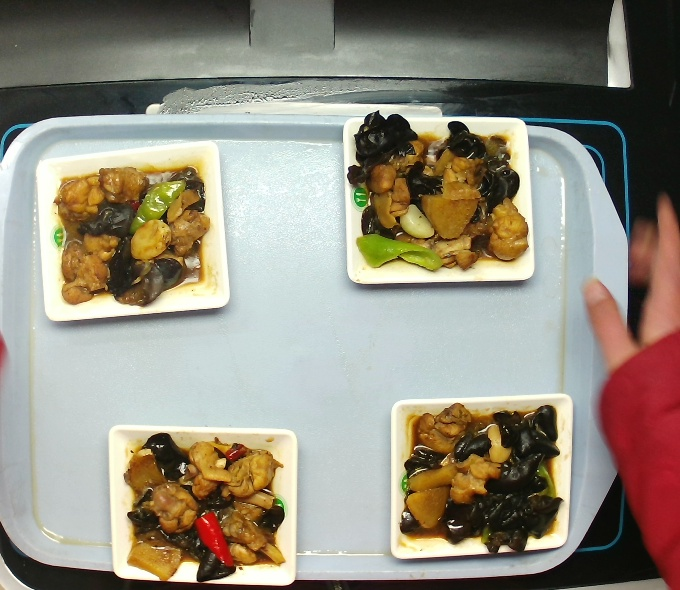wcq-MuErJiRou: (42, 145, 221, 319), (393, 387, 566, 566), (362, 113, 522, 269), (129, 425, 280, 581)
